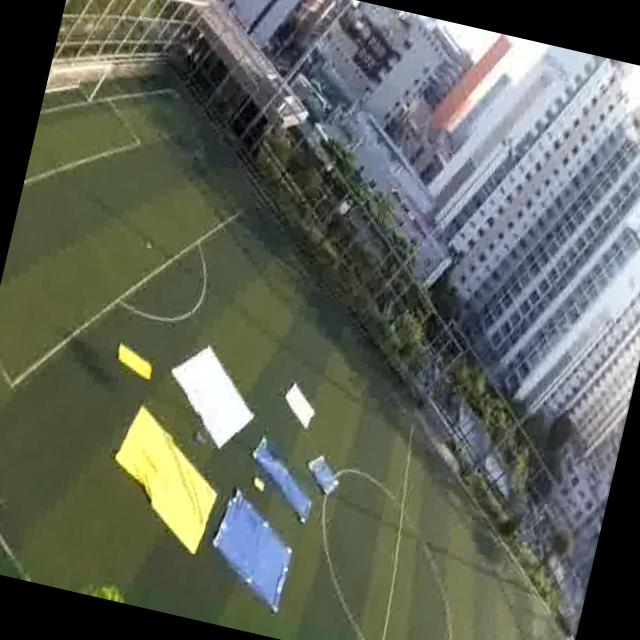danger: (209, 520, 290, 591), (302, 444, 342, 494), (252, 438, 296, 478)
safety: (174, 357, 257, 435), (276, 378, 324, 433)
warning: (112, 435, 218, 528), (110, 338, 154, 382)
